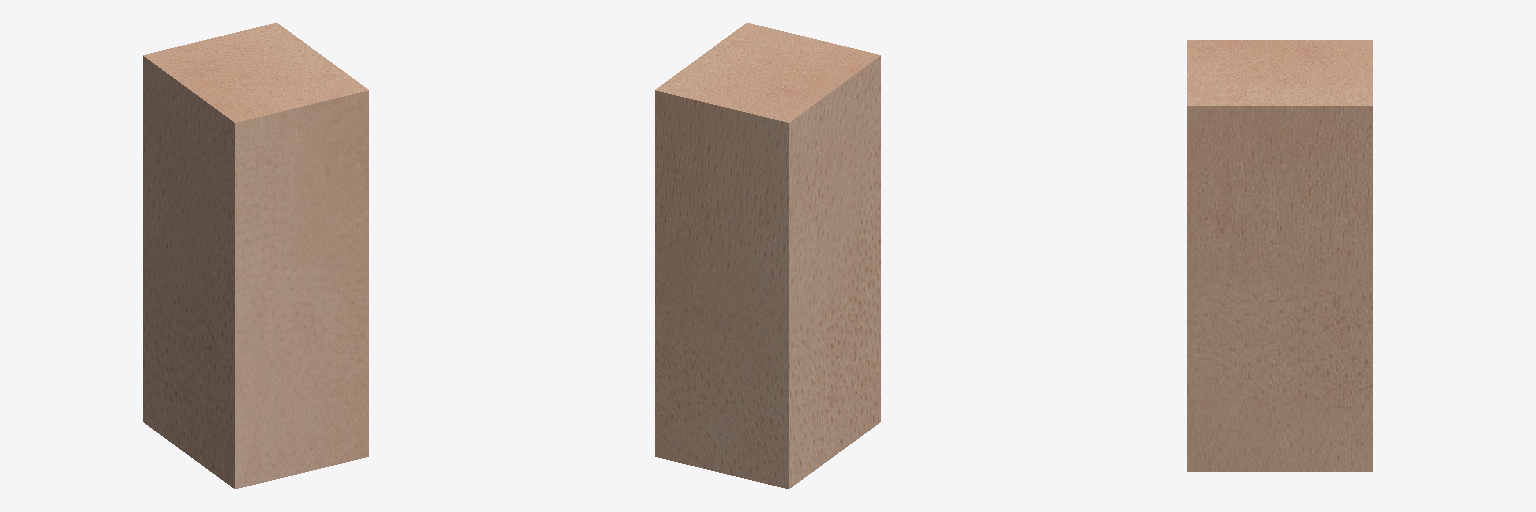
3 renders of one model, left to right at view 1: azimuth 30°, elevation 25°; view 2: azimuth 150°, elevation 25°; view 3: azimuth 270°, elevation 25°, orthographic.
Visible parts, largest first — view 1: Cube.004_Cube.010; view 2: Cube.004_Cube.010; view 3: Cube.004_Cube.010.
Boxes of the visible parts, <box> form: Cube.004_Cube.010: <box>143,23,368,488</box>; Cube.004_Cube.010: <box>655,23,880,488</box>; Cube.004_Cube.010: <box>1187,40,1372,471</box>.
Size of the model in its own units: 0.3112 by 0.8112 by 0.3712.
Materials: 1 (1 with a texture image).